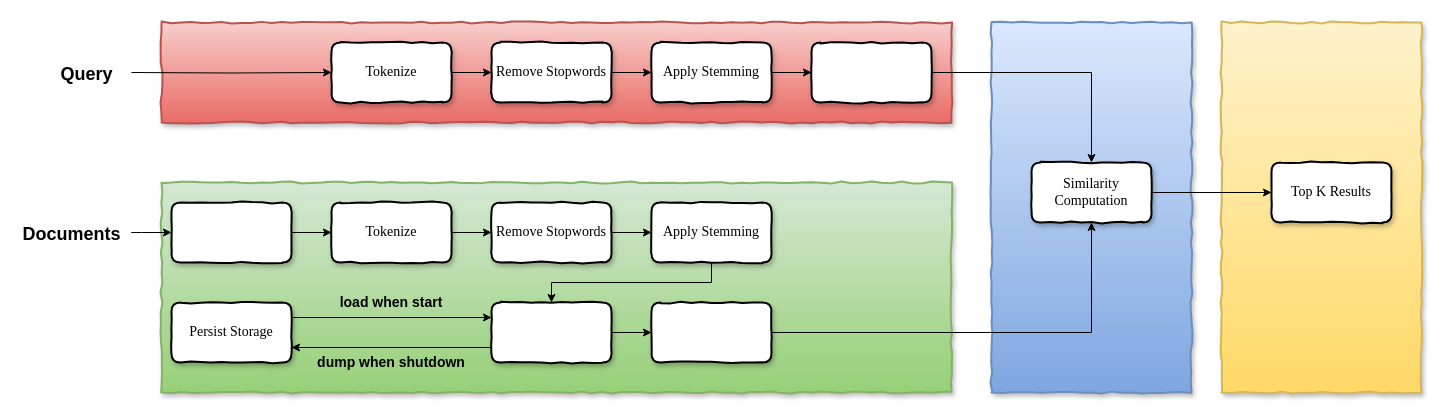
This 1445x417 diagram has some shape labels left out. Each missing label, with the centre of its shape:
"Compute Document Vectors" goes at point 712,333.
"Compute Query Vector" goes at point 872,73.
"Construct Inverted Index" goes at point 552,333.
"Parse Text" goes at point 232,233.
